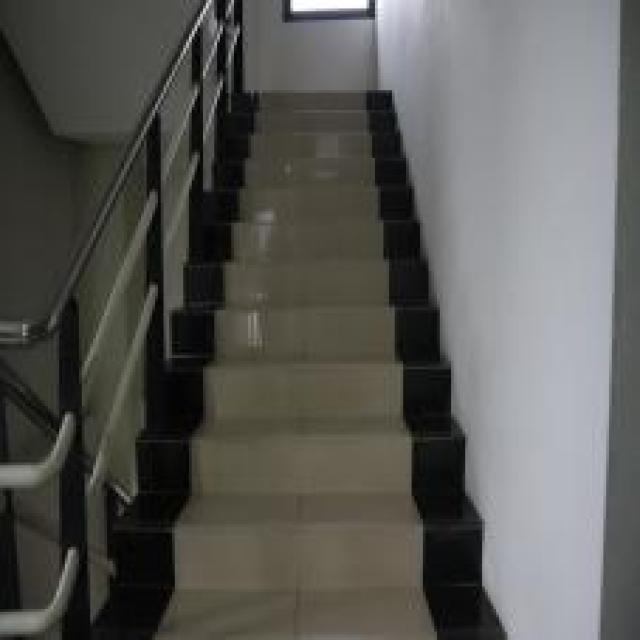upstair: (179, 86, 452, 638)
